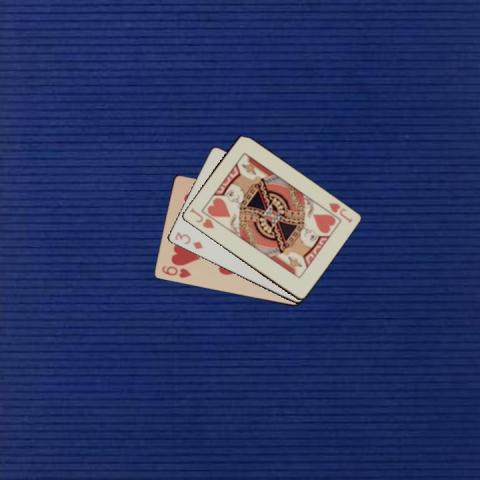3d: (171, 228, 204, 250)
6h: (158, 262, 192, 279)
Jh: (187, 205, 215, 230), (326, 200, 354, 225)
